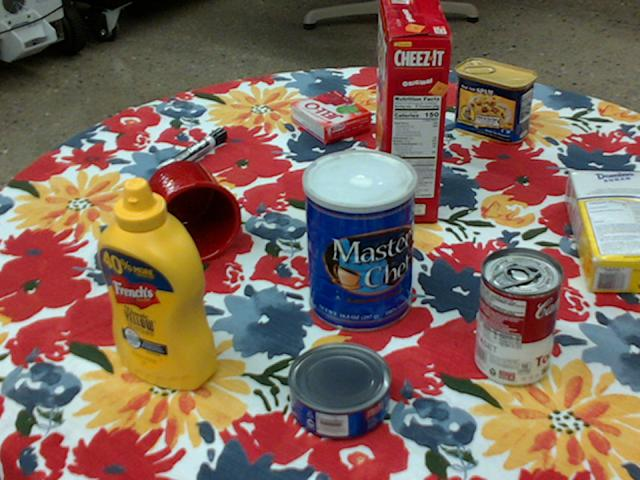cracker_box: (376, 0, 451, 221)
gelatin_box: (289, 90, 371, 144)
large_marker: (157, 126, 225, 176)
master_chef_can: (301, 149, 416, 333)
mug: (133, 160, 242, 265)
mustard_bottle: (95, 177, 218, 389)
potted_meat_can: (456, 57, 539, 142)
sugar_box: (566, 170, 639, 293)
tomato_soup_can: (476, 246, 563, 386)
tuna_fish_can: (284, 343, 388, 440)
